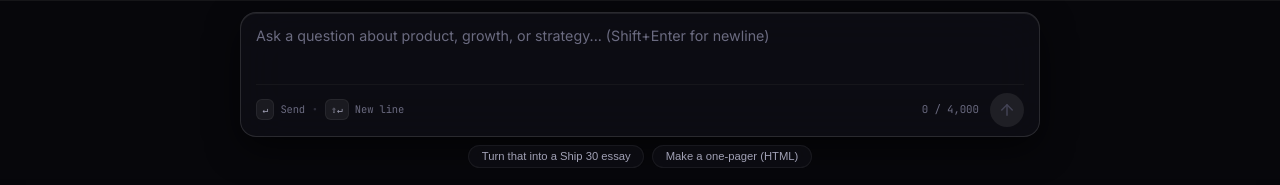
Test case: Composer Component › updates character count and enables send button when user enters valid text
This screenshot has width=1280, height=185.
Type "What drives retention?" into the text box with test id "composer-textarea".
click(640, 50); type("What drives retention?")  # box [256,24,1024,76]
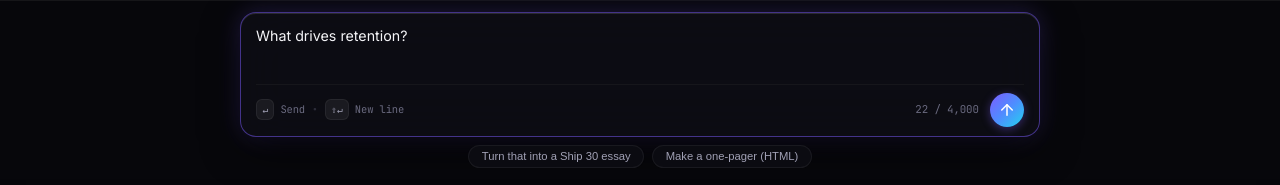
expect the text with test id "char-counter" reads "22 / 4,000": met, box [915,101,979,118]
expect the button with test id "composer-send-btn" is enabled: met, box [990,92,1024,126]
